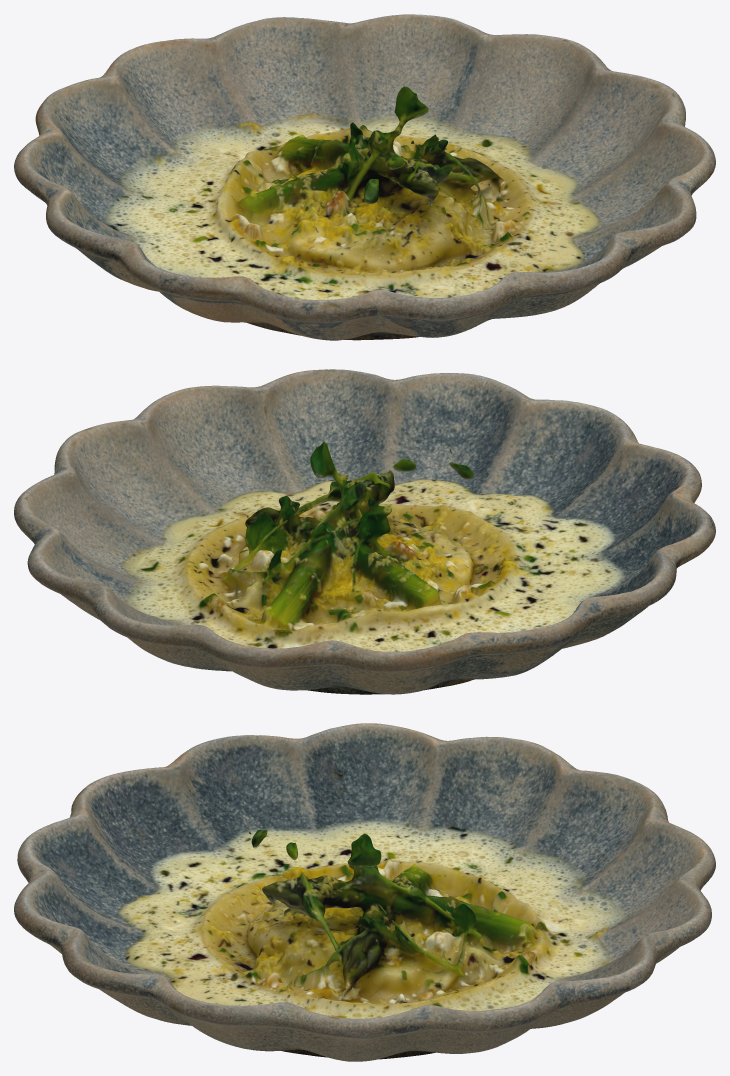
File: tartelette.glb
3 views of the same model, one above another, from view 1: azimuth 30°, elevation 25°; view 2: azimuth 150°, elevation 25°; view 3: azimuth 270°, elevation 25° (orthographic).
Parts seen in each view (by area): view 1: _1C7DBDE6_CD60_40AE_AF28_8B3DF7BBDBCB; view 2: _1C7DBDE6_CD60_40AE_AF28_8B3DF7BBDBCB; view 3: _1C7DBDE6_CD60_40AE_AF28_8B3DF7BBDBCB.
Part boxes in pixels (left/top/right/bottom): _1C7DBDE6_CD60_40AE_AF28_8B3DF7BBDBCB: left=14, top=14, right=715, bottom=340; _1C7DBDE6_CD60_40AE_AF28_8B3DF7BBDBCB: left=14, top=369, right=715, bottom=694; _1C7DBDE6_CD60_40AE_AF28_8B3DF7BBDBCB: left=14, top=723, right=715, bottom=1061.
Bounding box in the file's own units: 0.2 × 0.0519 × 0.1981.
Materials: 1 (1 with a texture image).
